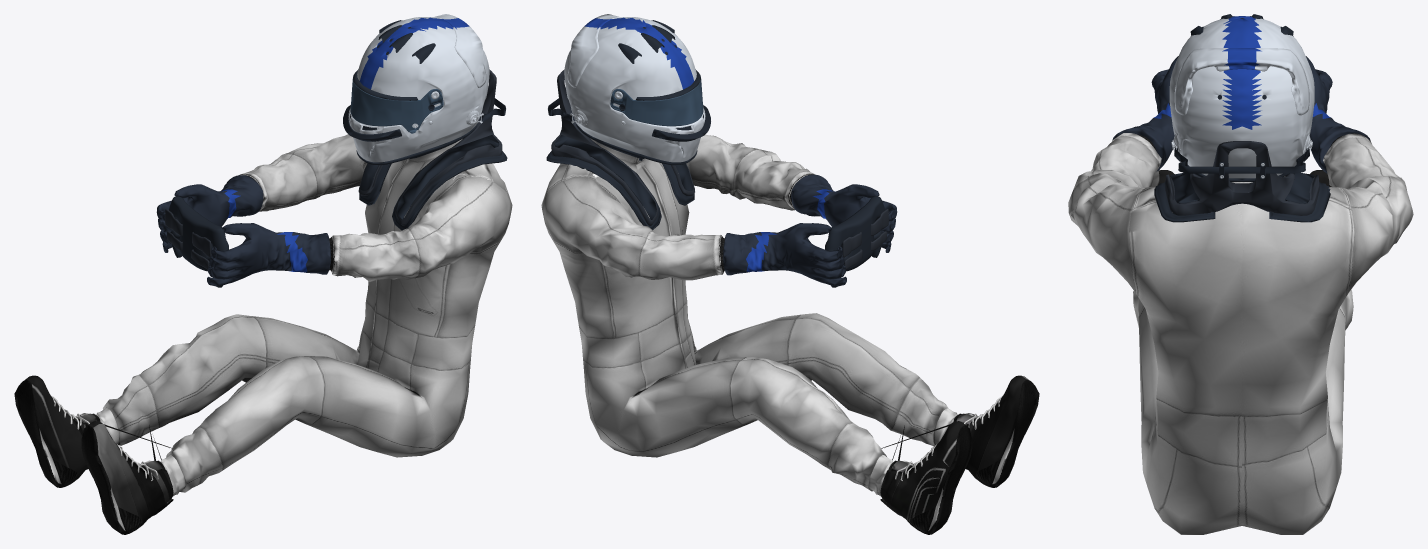
The model's file is racing-driver.glb.
3 views of the same model, side by side, from view 1: azimuth 30°, elevation 25°; view 2: azimuth 150°, elevation 25°; view 3: azimuth 270°, elevation 25° (orthographic). The views are drawn at different scales.
Parts seen in each view (by area): view 1: Seated racing driver; view 2: Seated racing driver; view 3: Seated racing driver.
Part boxes in pixels (x1,y1,x2,y2): Seated racing driver: (14,14,512,534); Seated racing driver: (541,14,1039,534); Seated racing driver: (1068,14,1413,534).
Bounding box in the file's own units: 1.26 × 1.14 × 0.6905.
Materials: 7 (1 with a texture image).
